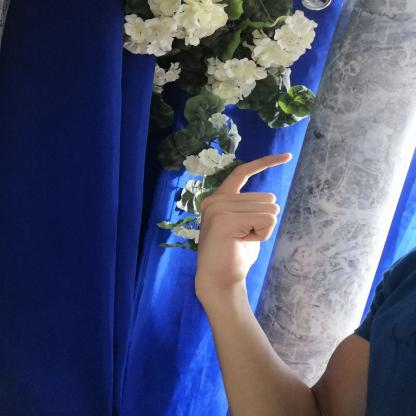RAA: (178, 144, 306, 300)
